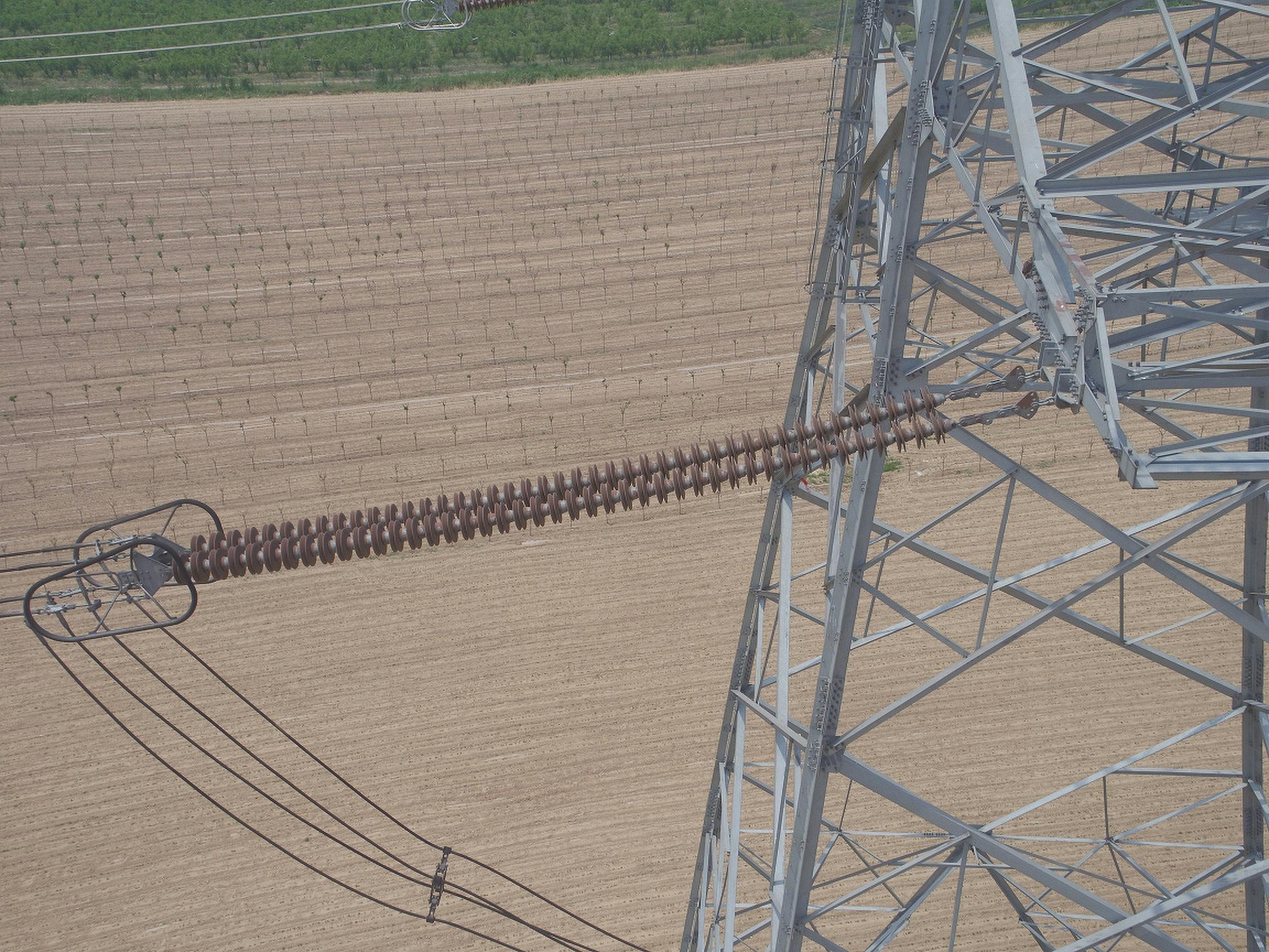insulator: (165, 383, 956, 593)
